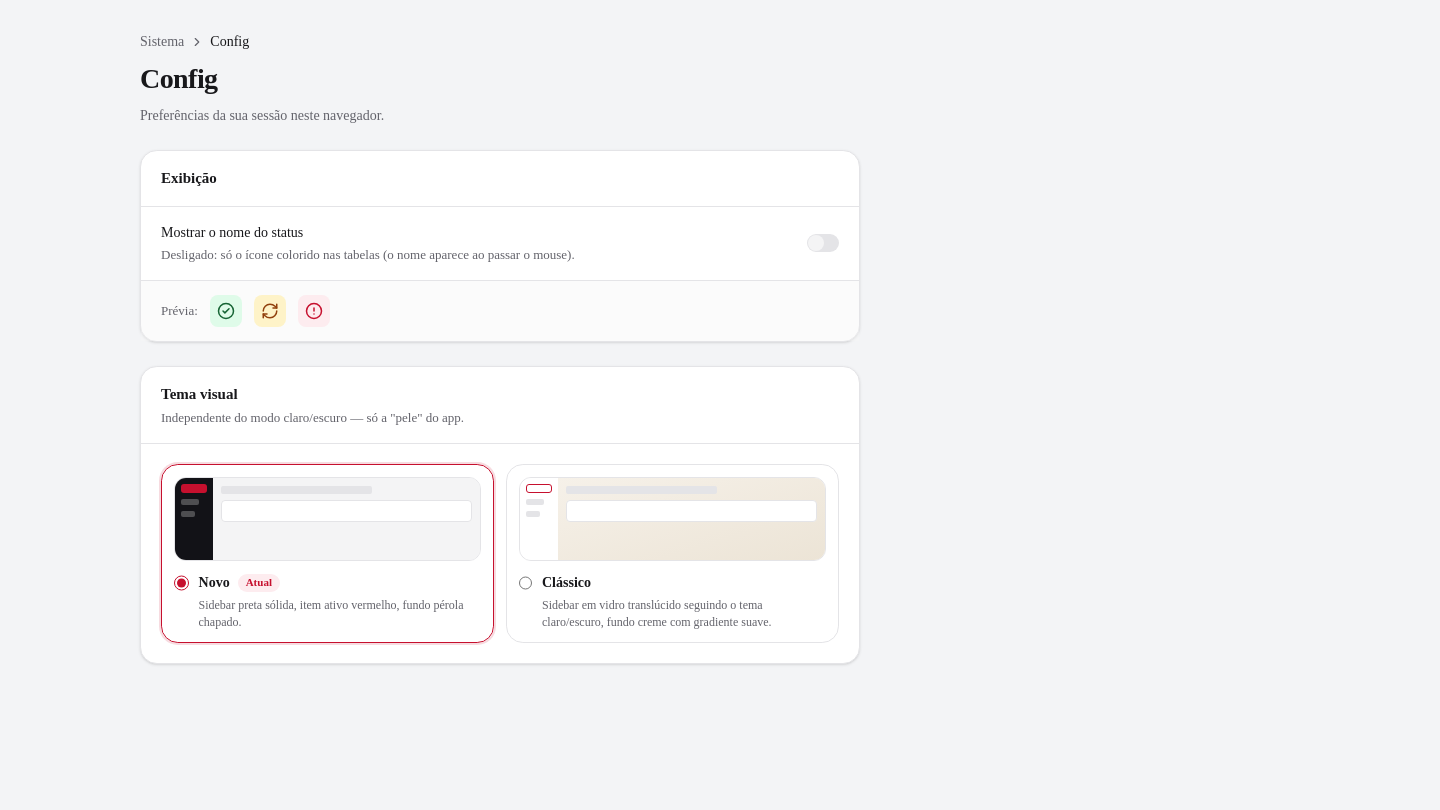
Test case: ConfigPage › escolher o tema Clássico aplica e marca como atual
Click the radio button labelled "Clássico": (526, 583) [519,575,532,591]
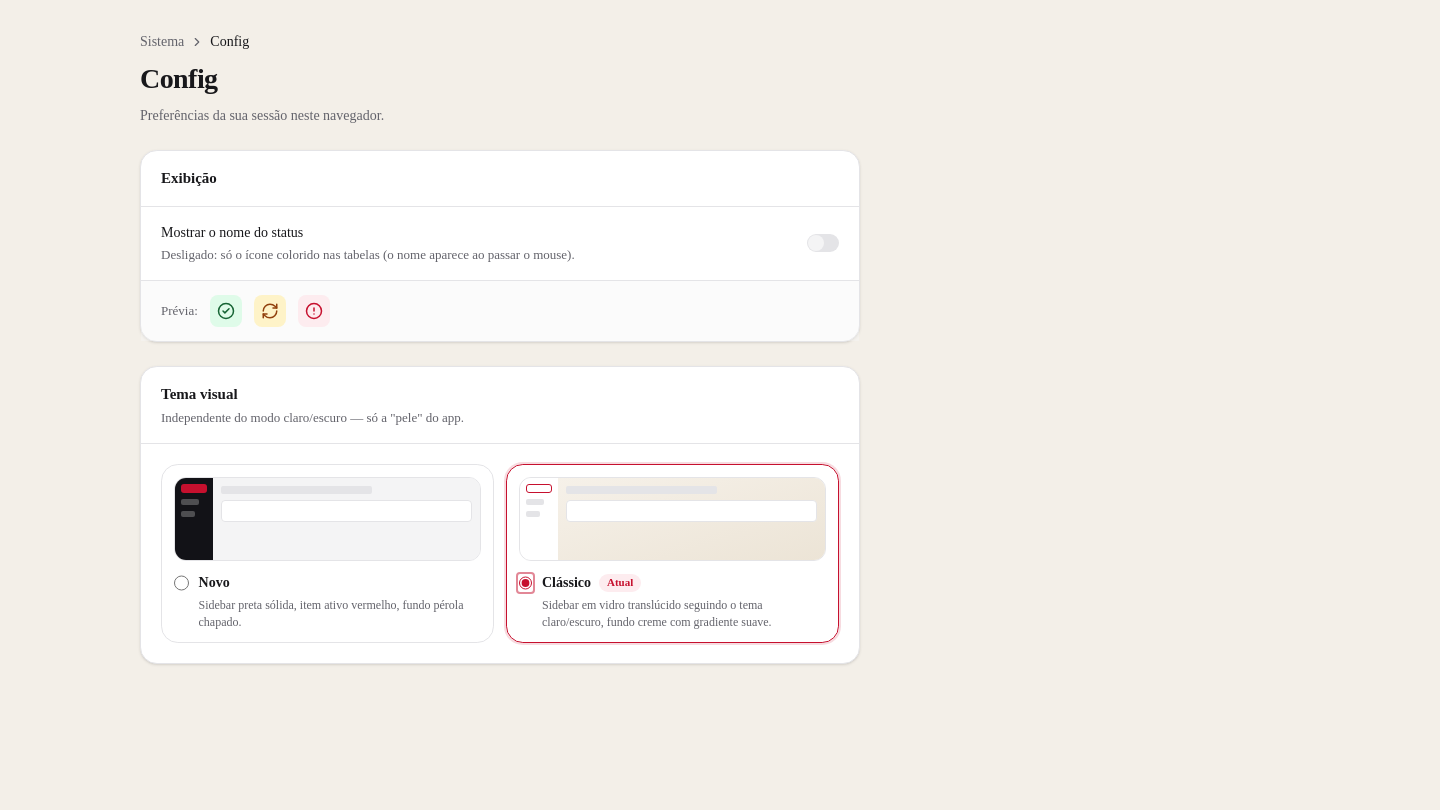
Expected: the radio button labelled "Clássico" is checked, [519,575,532,591]
Expected: the radio button labelled "Novo" is not checked, [174,575,188,591]
